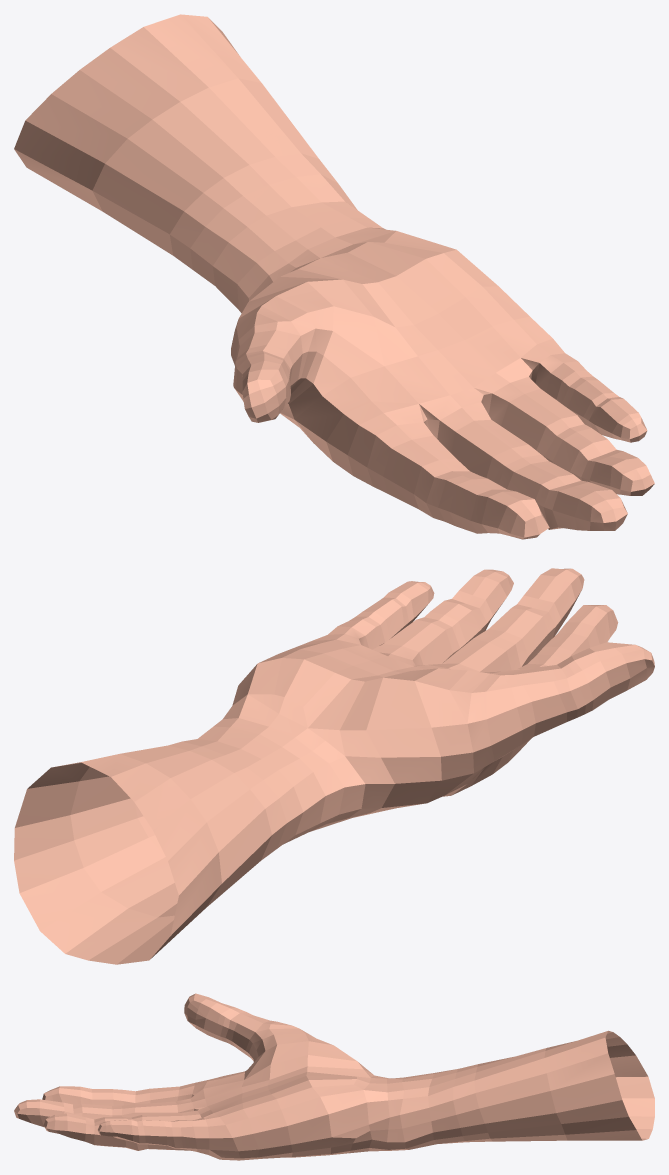
File: 1_7_HandPolygonalRighFront.glb
3 renders of one model, top to bottom at view 1: azimuth 30°, elevation 25°; view 2: azimuth 150°, elevation 25°; view 3: azimuth 270°, elevation 25°, orthographic. The views are drawn at different scales.
Parts seen in each view (by area): view 1: hand_femme_polySurface1.008; view 2: hand_femme_polySurface1.008; view 3: hand_femme_polySurface1.008.
Boxes of the visible parts, box(x1,y1,x2,y2) form: hand_femme_polySurface1.008: box(14, 14, 654, 539); hand_femme_polySurface1.008: box(14, 568, 654, 964); hand_femme_polySurface1.008: box(14, 993, 654, 1160).
Size of the model in its own units: 0.0733 by 0.042 by 0.1908.
